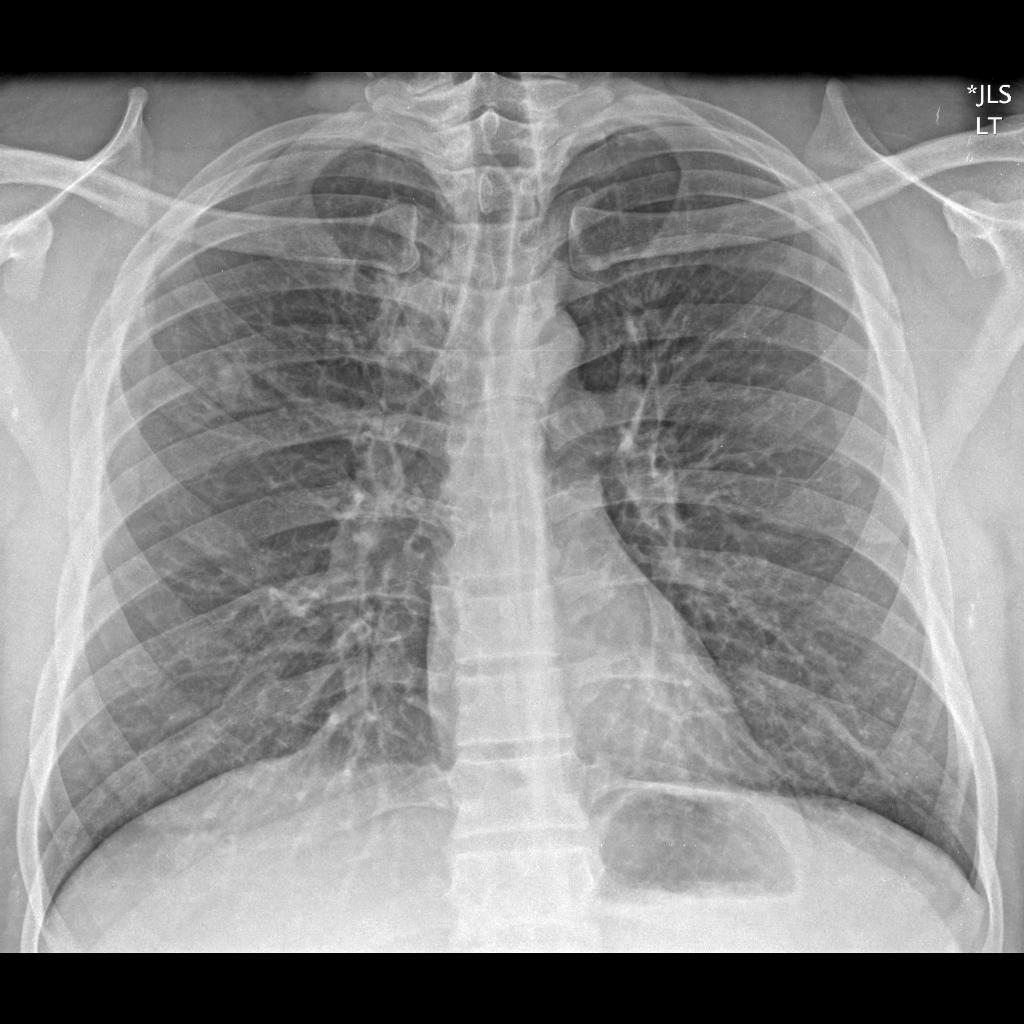Nodule: (208, 354, 267, 411)
